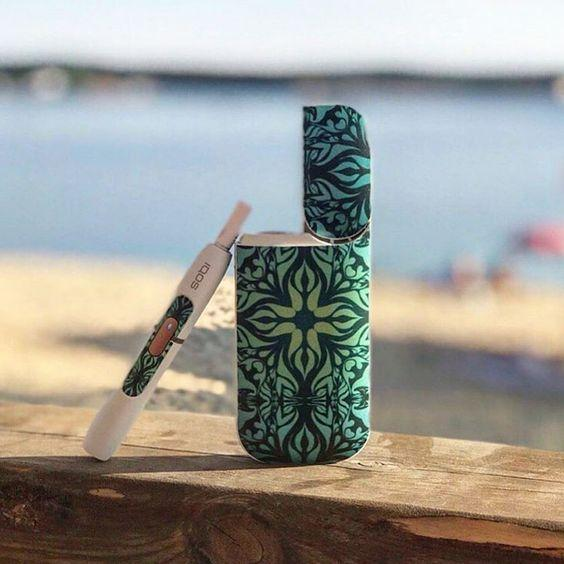iqos: (85, 202, 248, 460)
